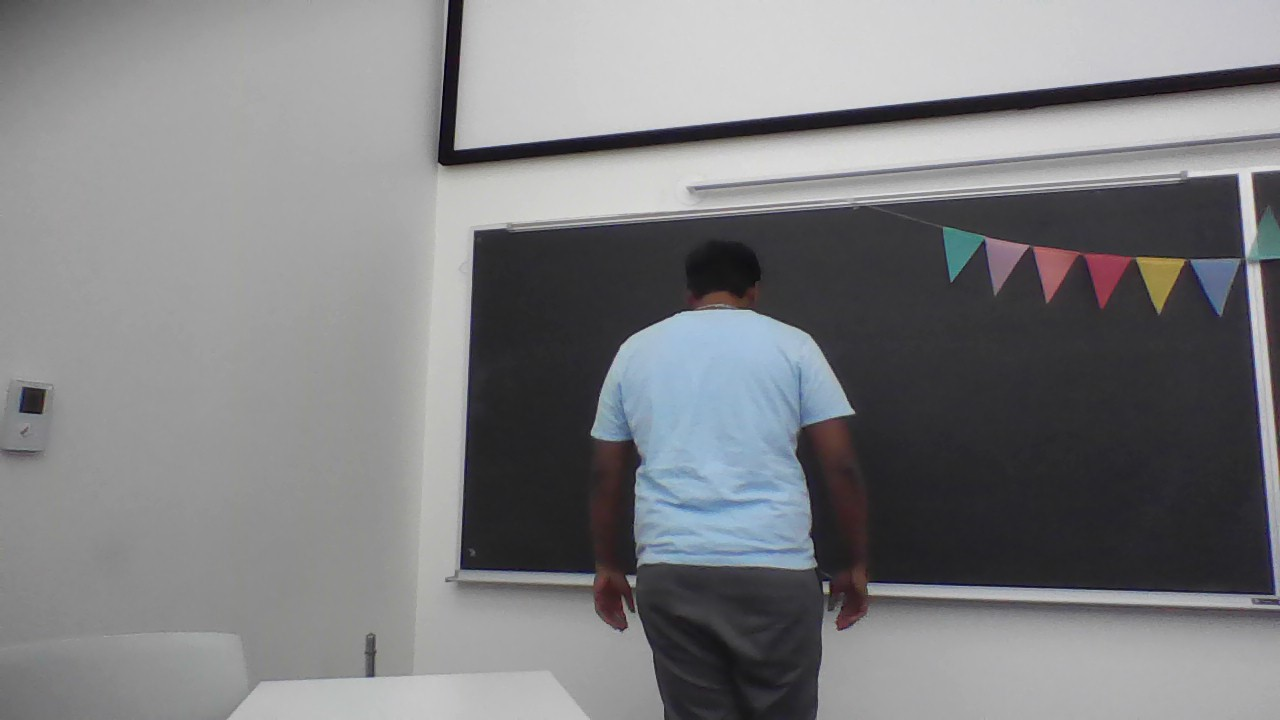height_frame: (567, 237, 891, 720)
hip_frame: (637, 545, 823, 575)
shoulder_frame: (628, 340, 816, 360)
waist_frame: (635, 463, 808, 491)
